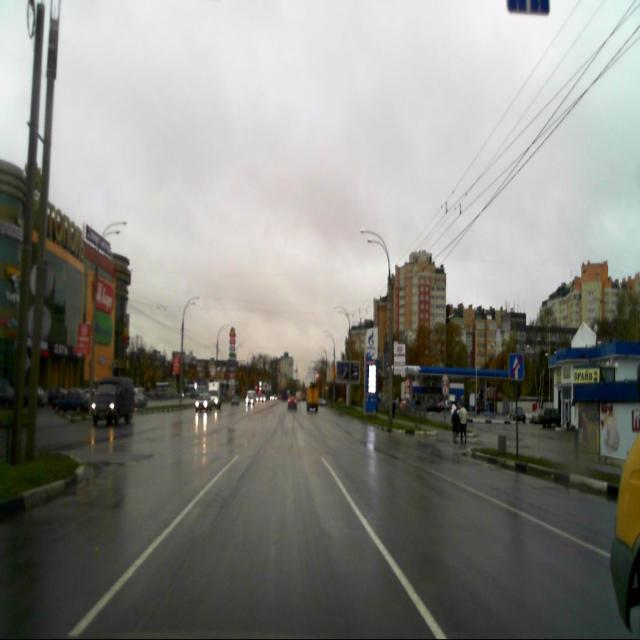road sign: (508, 352, 524, 380)
